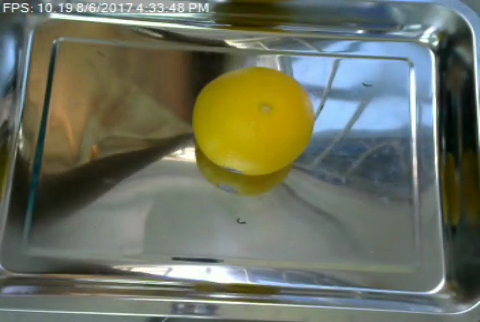Orange: (190, 65, 316, 175)
